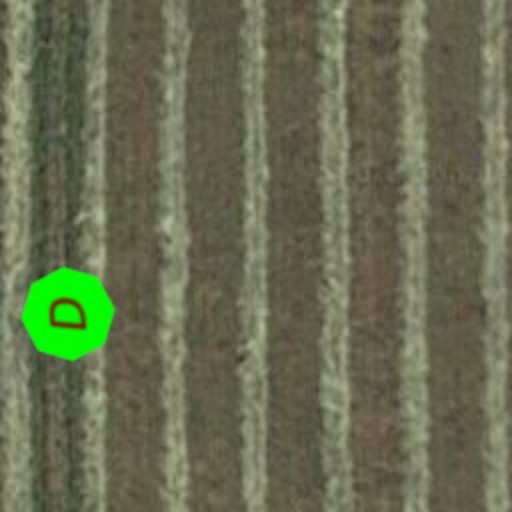octagon: (14, 260, 122, 368)
